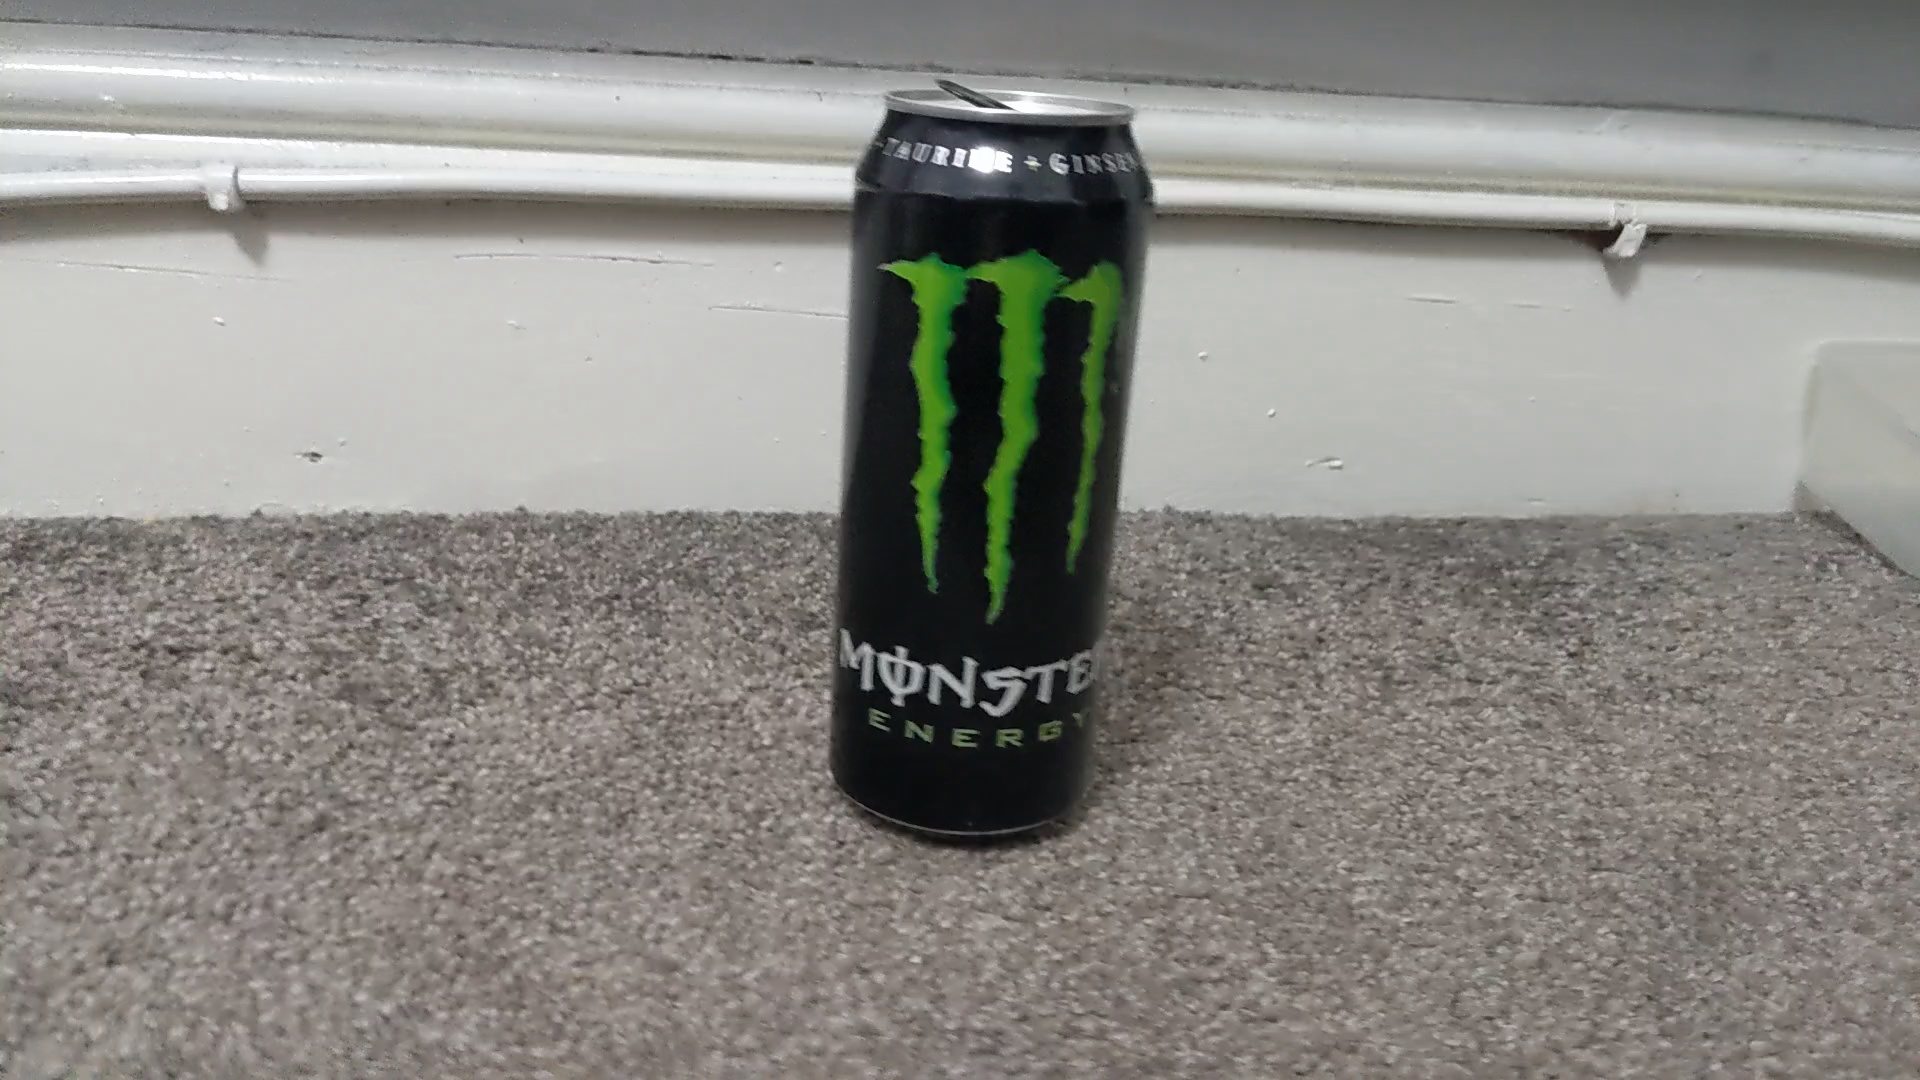monster-original: (824, 88, 1154, 841)
